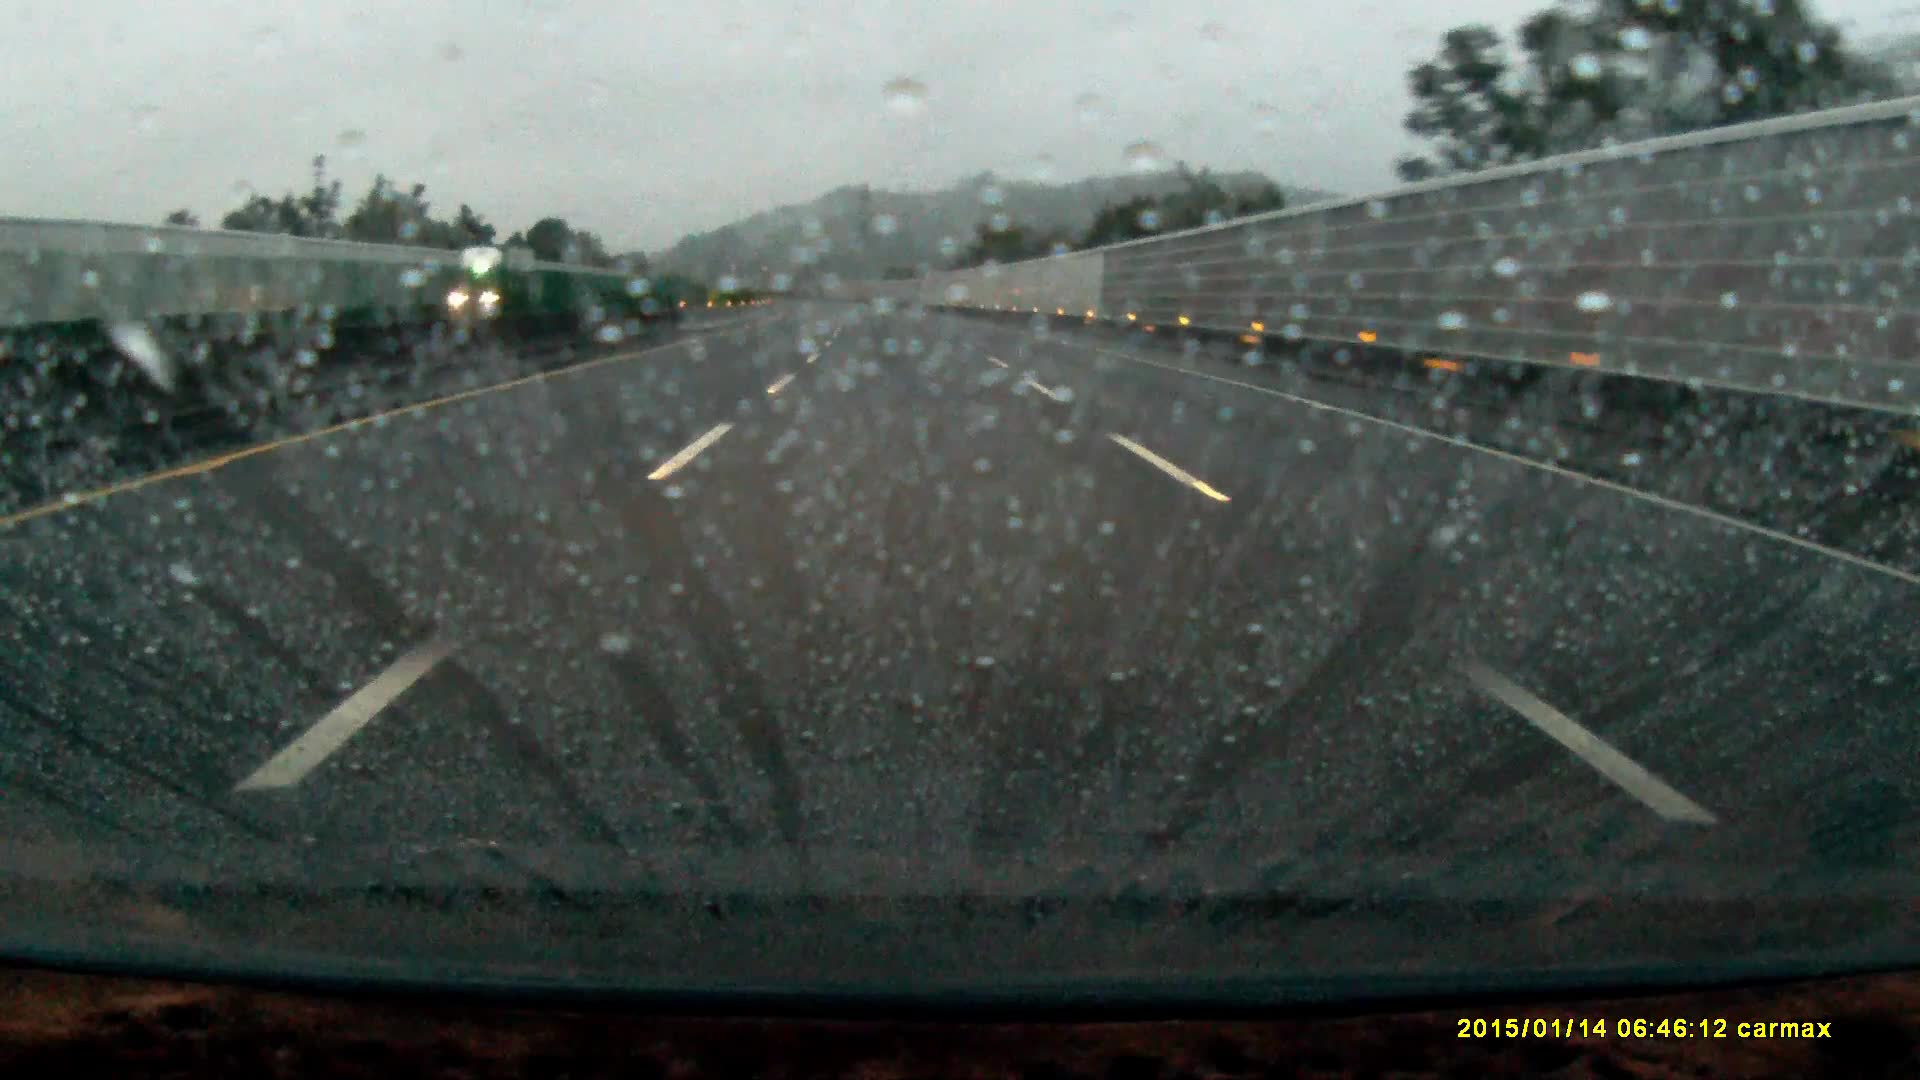vehicle: (455, 247, 539, 319)
